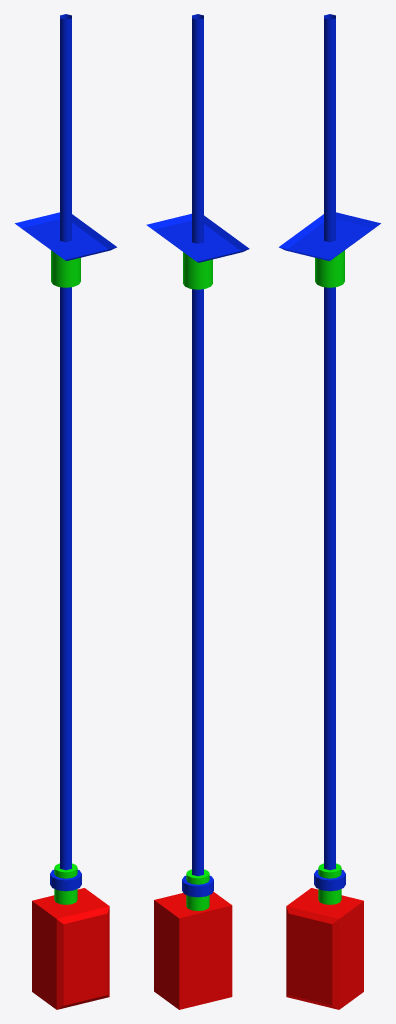
The model's file is Electrical Outlet_Hanging.FBX.
3 renders of one model, left to right at view 1: azimuth 30°, elevation 25°; view 2: azimuth 210°, elevation 25°; view 3: azimuth 330°, elevation 25°, orthographic.
Parts seen in each view (by area): view 1: Cord, Box, Outlet_Hanging; view 2: Cord, Box, Outlet_Hanging; view 3: Cord, Box, Outlet_Hanging.
Part boxes in pixels (<box>): Cord: <box>60,14,71,870</box>; Box: <box>32,863,109,1009</box>; Outlet_Hanging: <box>15,212,116,287</box>; Cord: <box>192,14,203,876</box>; Box: <box>154,869,232,1009</box>; Outlet_Hanging: <box>146,213,249,289</box>; Cord: <box>324,14,335,870</box>; Box: <box>286,863,363,1009</box>; Outlet_Hanging: <box>279,212,380,287</box>.
Size of the model in its own units: 4.36 by 76.87 by 7.18.
